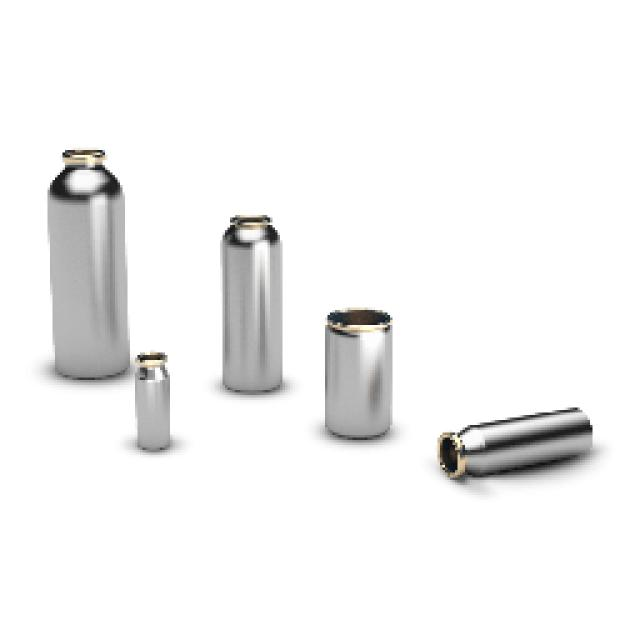alumunium: (48, 150, 128, 378), (220, 215, 280, 390), (440, 408, 590, 475), (325, 308, 390, 438), (140, 352, 168, 448)
